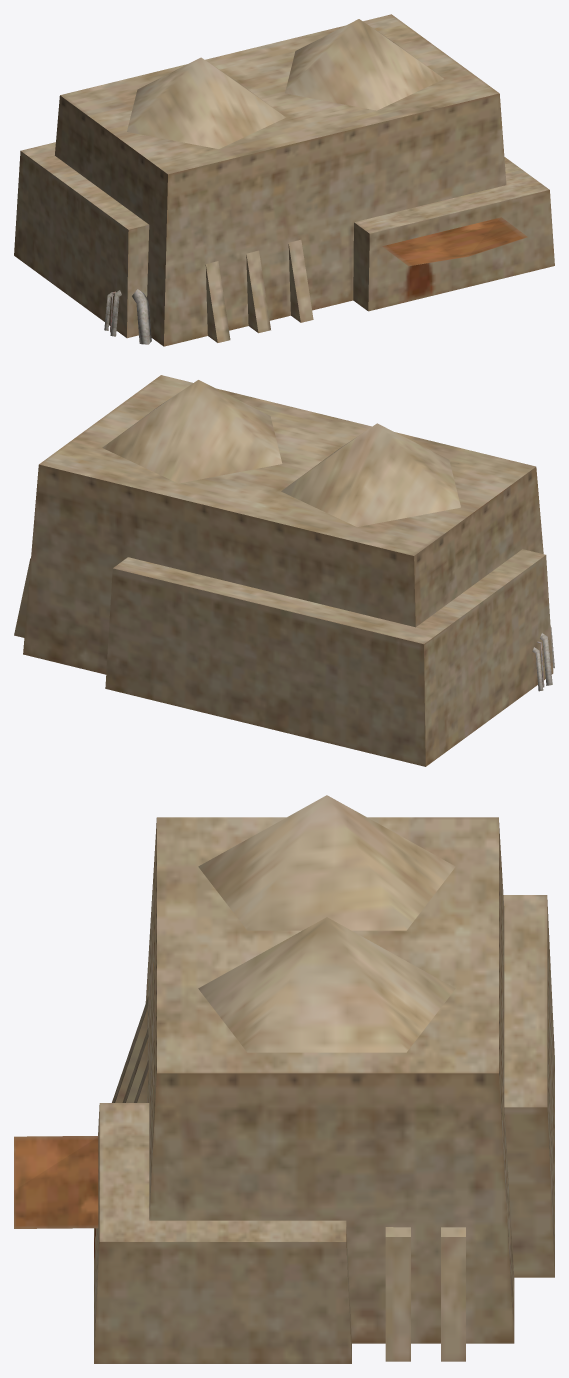
Rendered from thm_tato_imprv_building_s03_l4.fbx.
3 views of the same model, one above another, from view 1: azimuth 30°, elevation 25°; view 2: azimuth 150°, elevation 25°; view 3: azimuth 270°, elevation 25° (orthographic). The views are drawn at different scales.
Visible parts, largest first — view 1: mesh_node; view 2: mesh_node; view 3: mesh_node.
Boxes of the visible parts, left/top/right/bottom form: mesh_node: left=14, top=14, right=554, bottom=346; mesh_node: left=14, top=375, right=554, bottom=766; mesh_node: left=14, top=795, right=554, bottom=1363.
Size of the model in its own units: 32.28 by 17.22 by 23.73.
